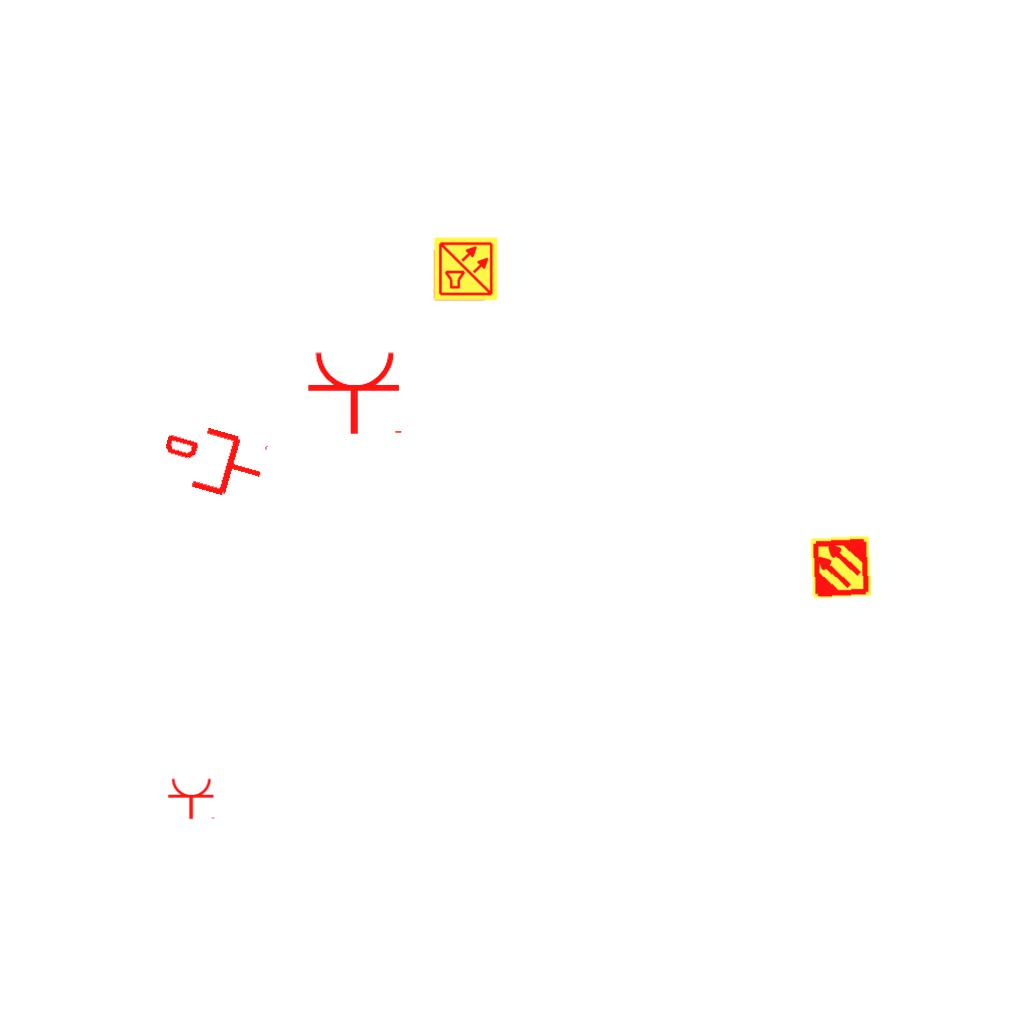ASR_Ansaugrauchmelder: (808, 534, 874, 600)
Datenanschluss_einfach: (155, 414, 272, 508)
OKW_Multisensormelder_(Kombination_optischer_Rauch-Kahlenmonoxid_Waerme-Melder): (433, 236, 499, 302)
Schukosteckdose_einfach: (306, 349, 406, 436), (167, 777, 217, 820)
